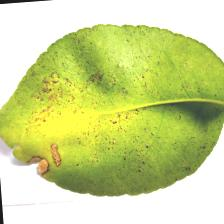canker: (14, 55, 112, 189)
